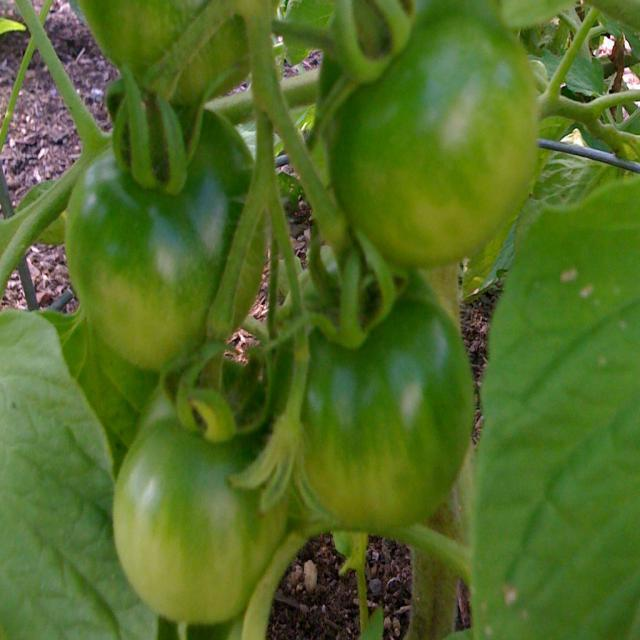Tomato: (64, 0, 539, 624)
